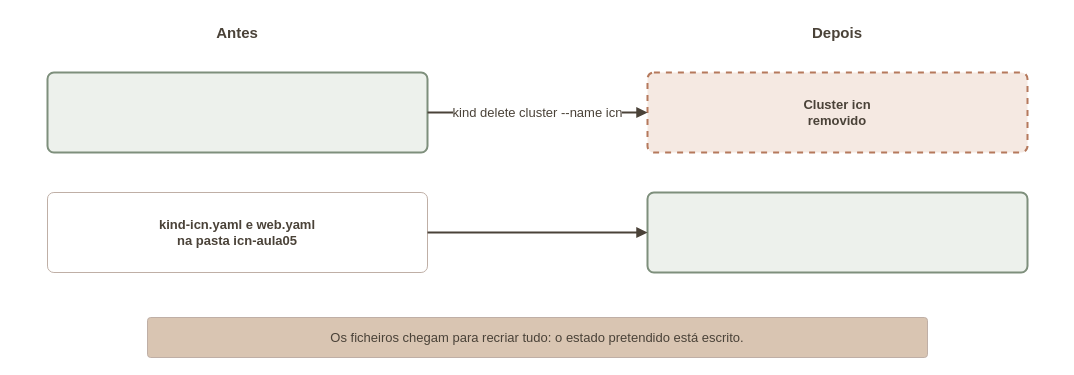
This 1074x375 diagram has some shape labels left out. The shapes that lost their labels are listed below. From the top down, each one's box as (x1, y1, x2, y2) in pixels, then its label:
(46, 71, 428, 153): Cluster icn 3 containers Docker
(646, 191, 1028, 273): kind-icn.yaml e web.yaml continuam na pasta
